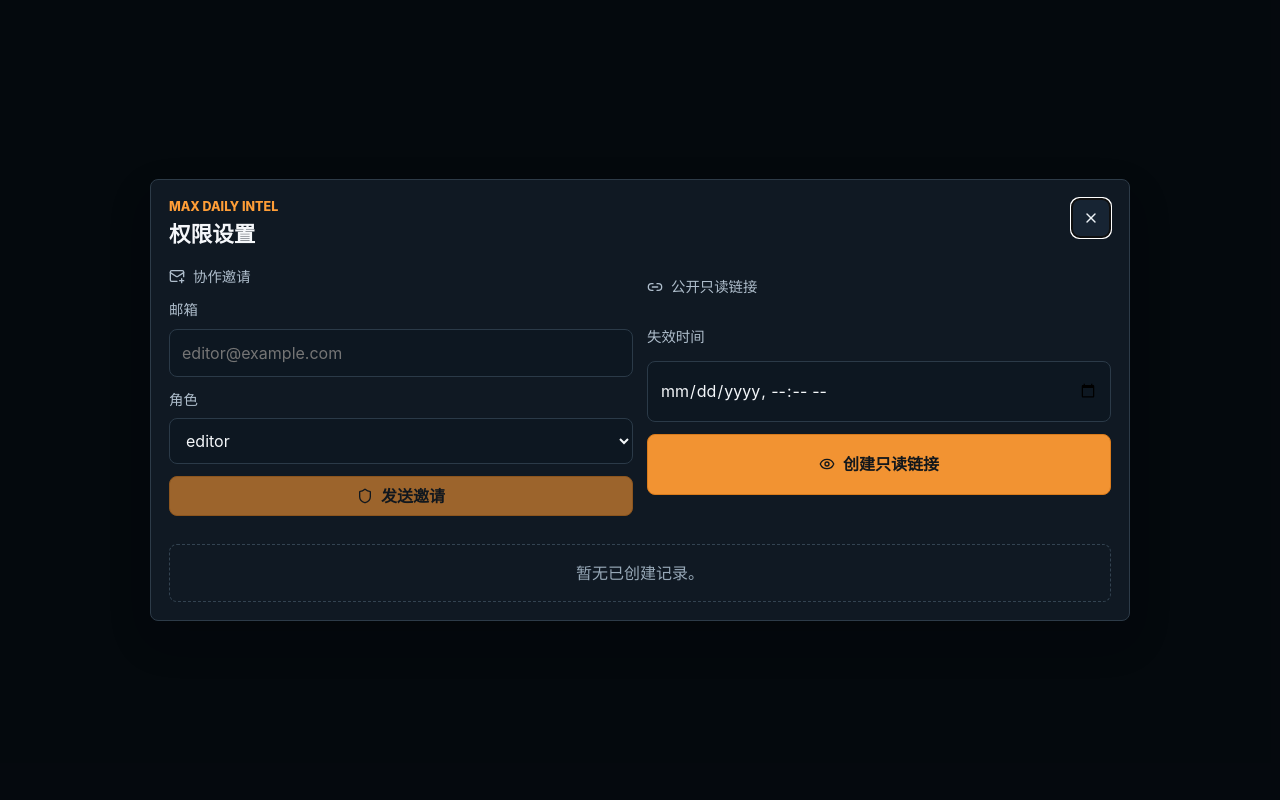
Scenario: ShareDialog errors › preserves invitation and share creation messages from the Worker
Type "max@example.com" into the field labelled "邮箱" at (401, 353), box top-left (169, 329), bottom-right (633, 377)
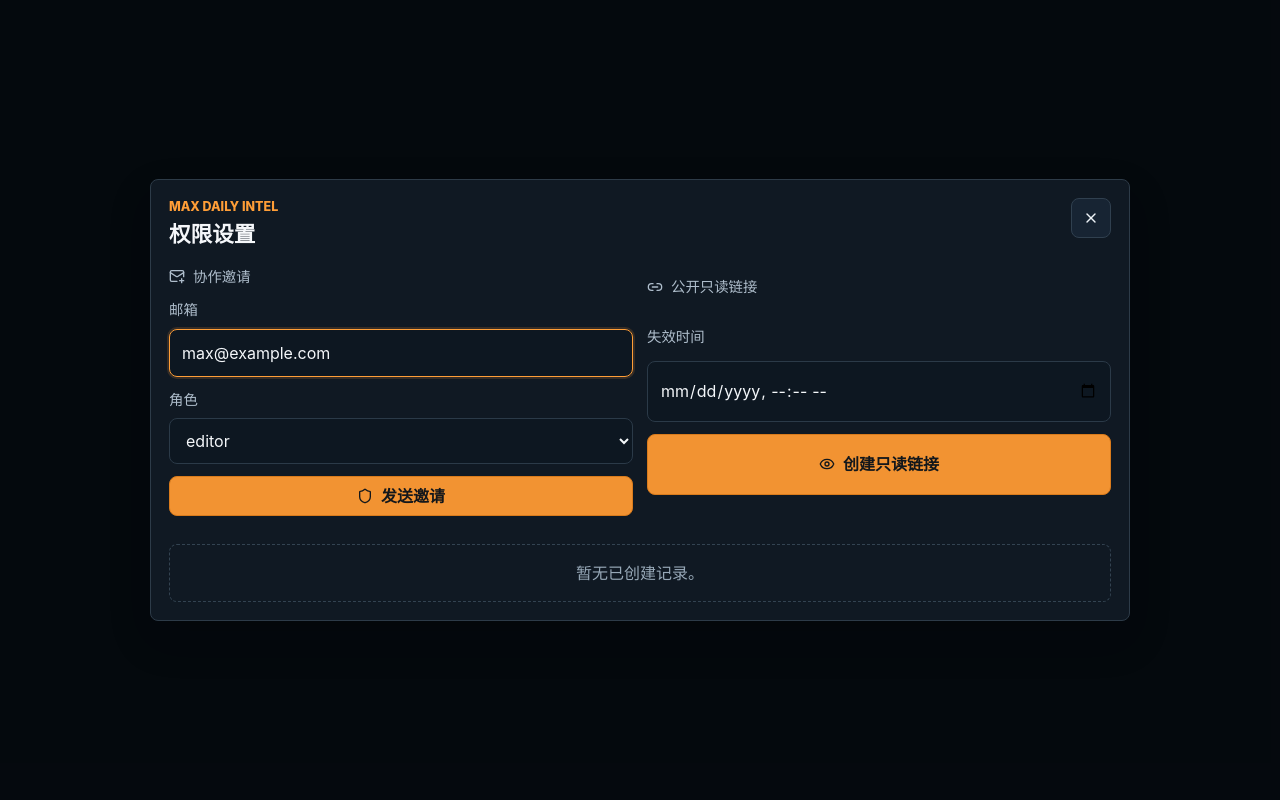
Click the button "发送邀请" at (401, 496), box top-left (169, 476), bottom-right (633, 516)
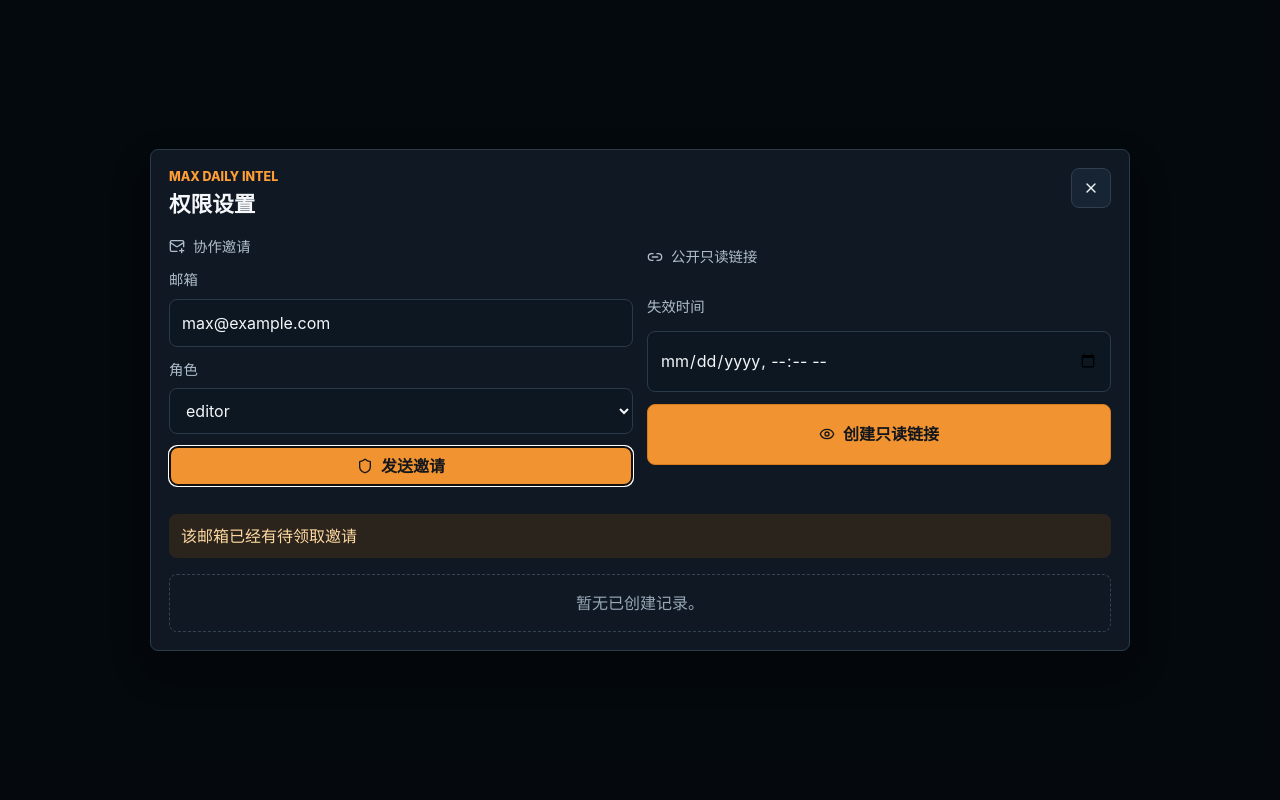
Result: the text "该邮箱已经有待领取邀请" is shown at top-left (169, 514), bottom-right (1111, 558)
Click the button "创建只读链接" at (879, 434), box top-left (647, 404), bottom-right (1111, 465)
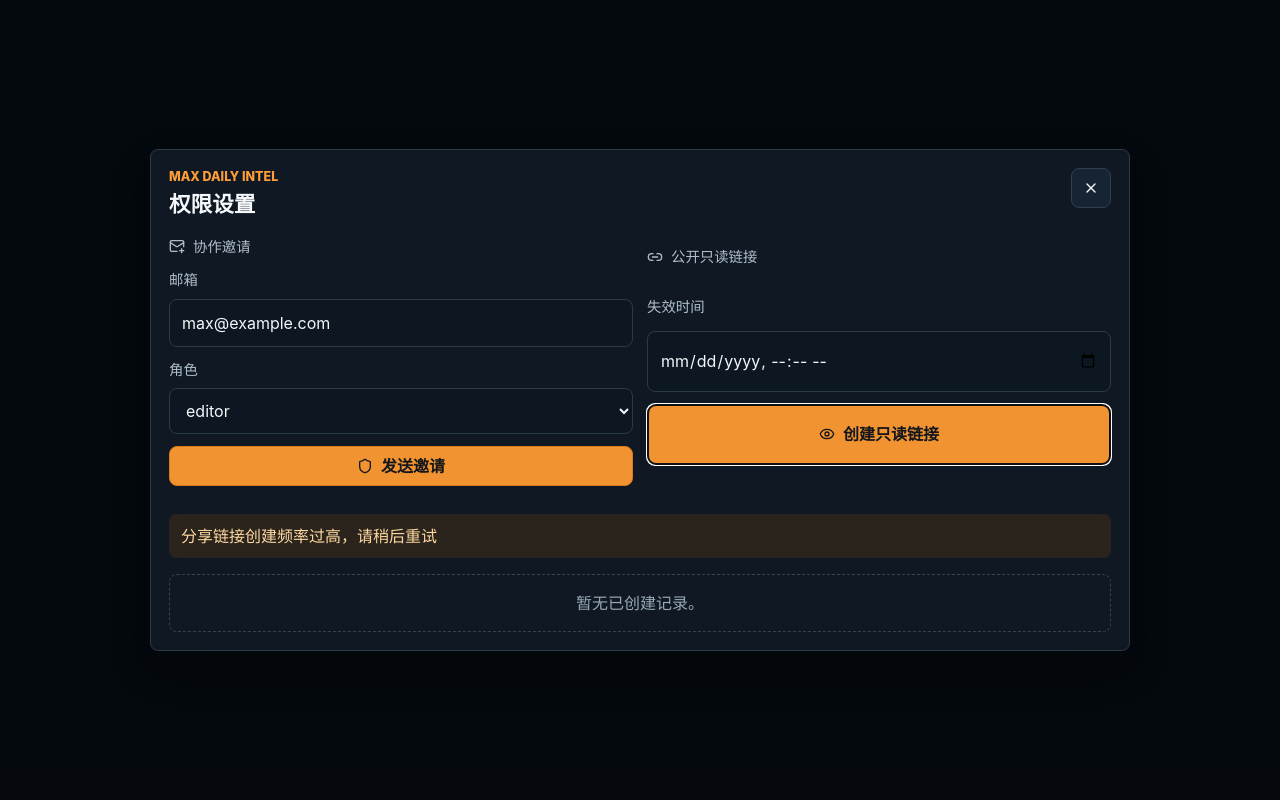
Result: the text "分享链接创建频率过高，请稍后重试" is shown at top-left (169, 514), bottom-right (1111, 558)
